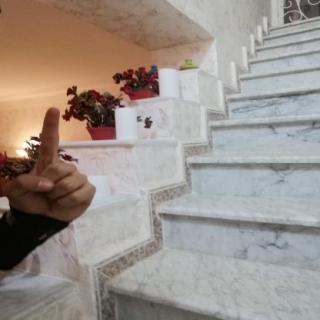BAA: (2, 102, 106, 229)
